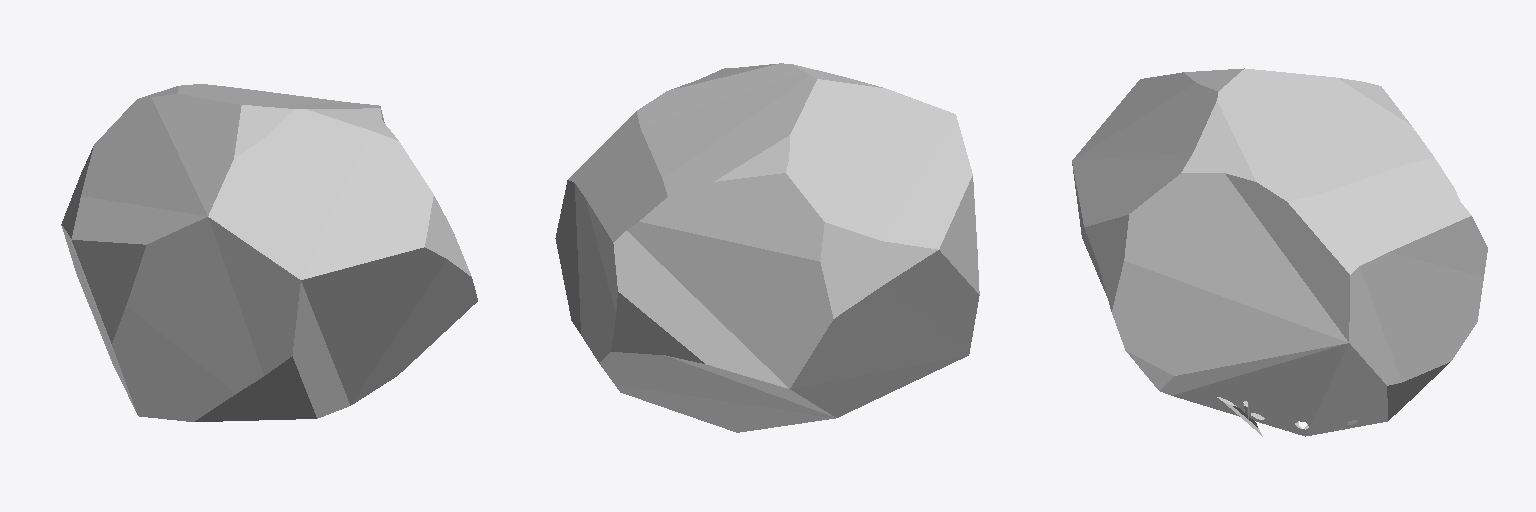
File: Willow_leaves(R0G80B0).obj
The picture shows the model from 3 angles: view 1: azimuth 30°, elevation 25°; view 2: azimuth 150°, elevation 25°; view 3: azimuth 270°, elevation 25°; orthographic projection.
Parts seen in each view (by area): view 1: Mesh1 Component_11_1 Model; view 2: Mesh1 Component_11_1 Model; view 3: Mesh1 Component_11_1 Model.
Boxes of the visible parts, <box> form: Mesh1 Component_11_1 Model: <box>61,84,477,421</box>; Mesh1 Component_11_1 Model: <box>555,63,979,432</box>; Mesh1 Component_11_1 Model: <box>1072,68,1487,436</box>.
Size of the model in its own units: 8684 by 8018 by 8796.